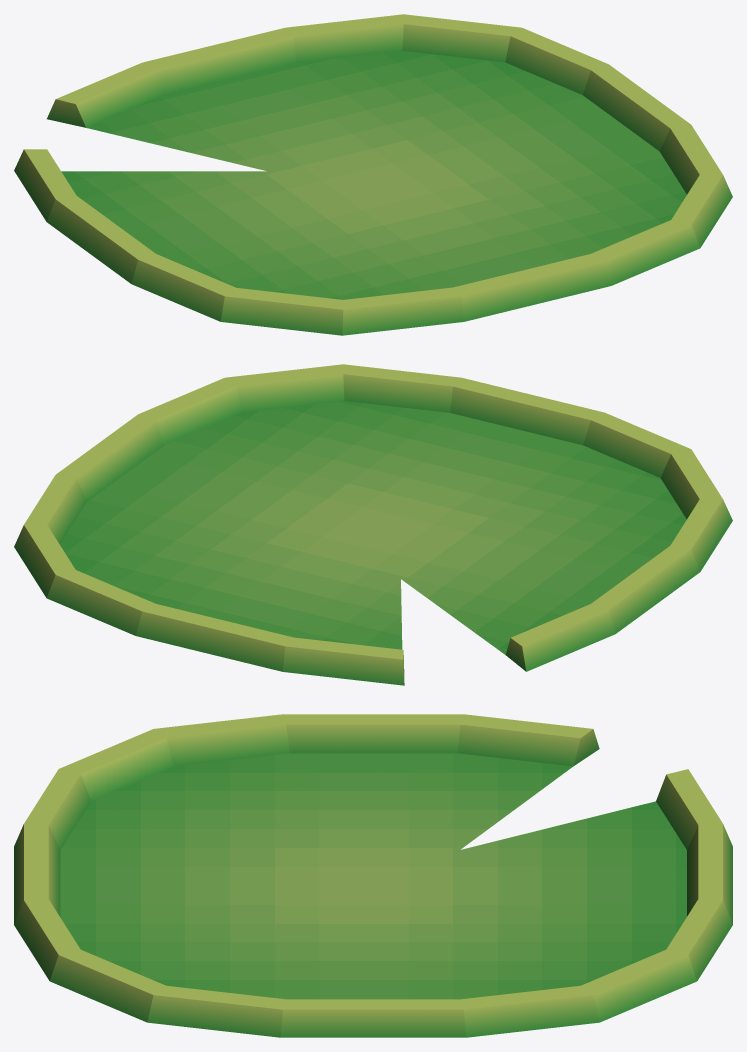
Rendered from lilipad.glb.
3 renders of one model, top to bottom at view 1: azimuth 30°, elevation 25°; view 2: azimuth 150°, elevation 25°; view 3: azimuth 270°, elevation 25°, orthographic. The views are drawn at different scales.
Visible parts, largest first — view 1: Plane.025; view 2: Plane.025; view 3: Plane.025.
Boxes of the visible parts, x1,y1,x2,y2 form: Plane.025: [14, 14, 732, 335]; Plane.025: [14, 364, 732, 685]; Plane.025: [14, 714, 732, 1037].
Size of the model in its own units: 2.06 by 0.0752 by 2.06.
Materials: 1 (1 with a texture image).
